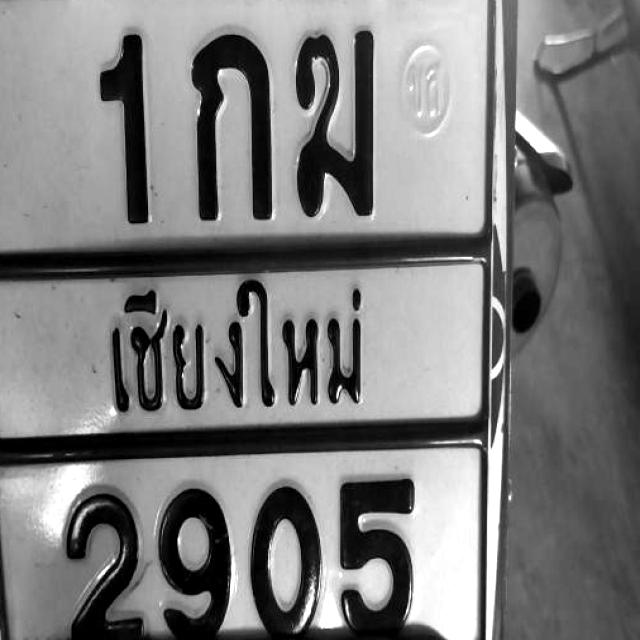letters: (180, 4, 288, 224), (285, 8, 384, 220), (54, 470, 154, 640), (100, 8, 174, 235), (239, 475, 334, 637), (336, 472, 418, 632), (156, 479, 234, 640)
license-plate: (0, 0, 507, 640)
province: (80, 278, 386, 422)
